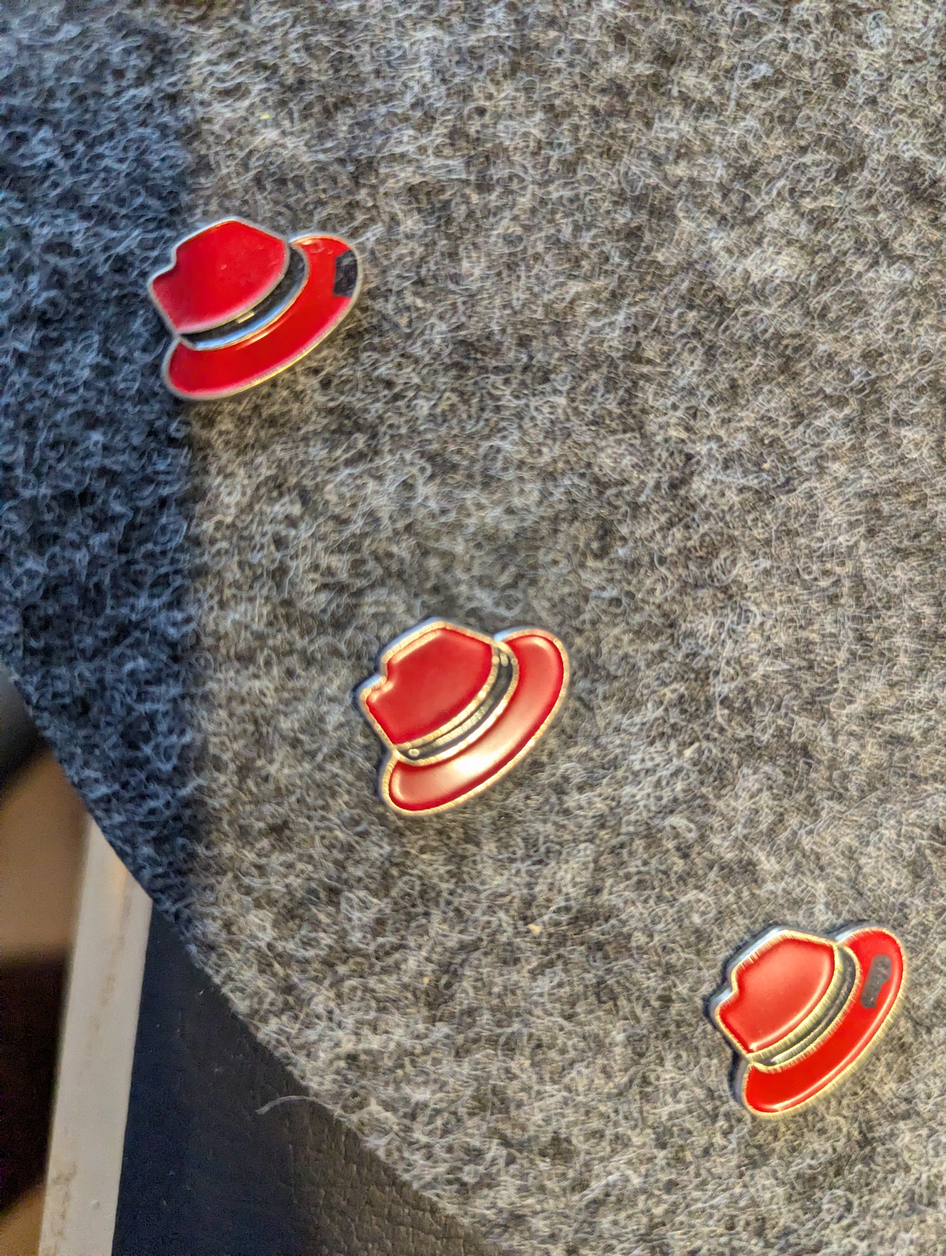Red-Hat: (332, 592, 624, 824), (686, 887, 921, 1148), (129, 203, 389, 411)
Scratch: (311, 231, 371, 309), (853, 944, 904, 1021)
